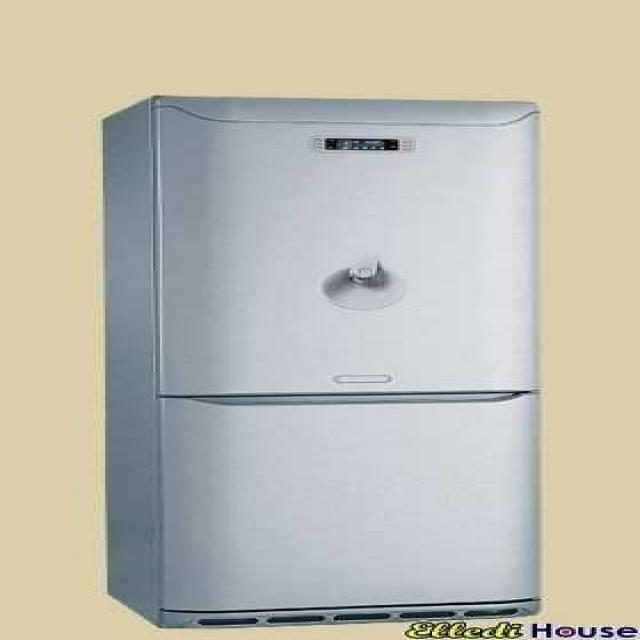refrigerator: (106, 94, 543, 623)
